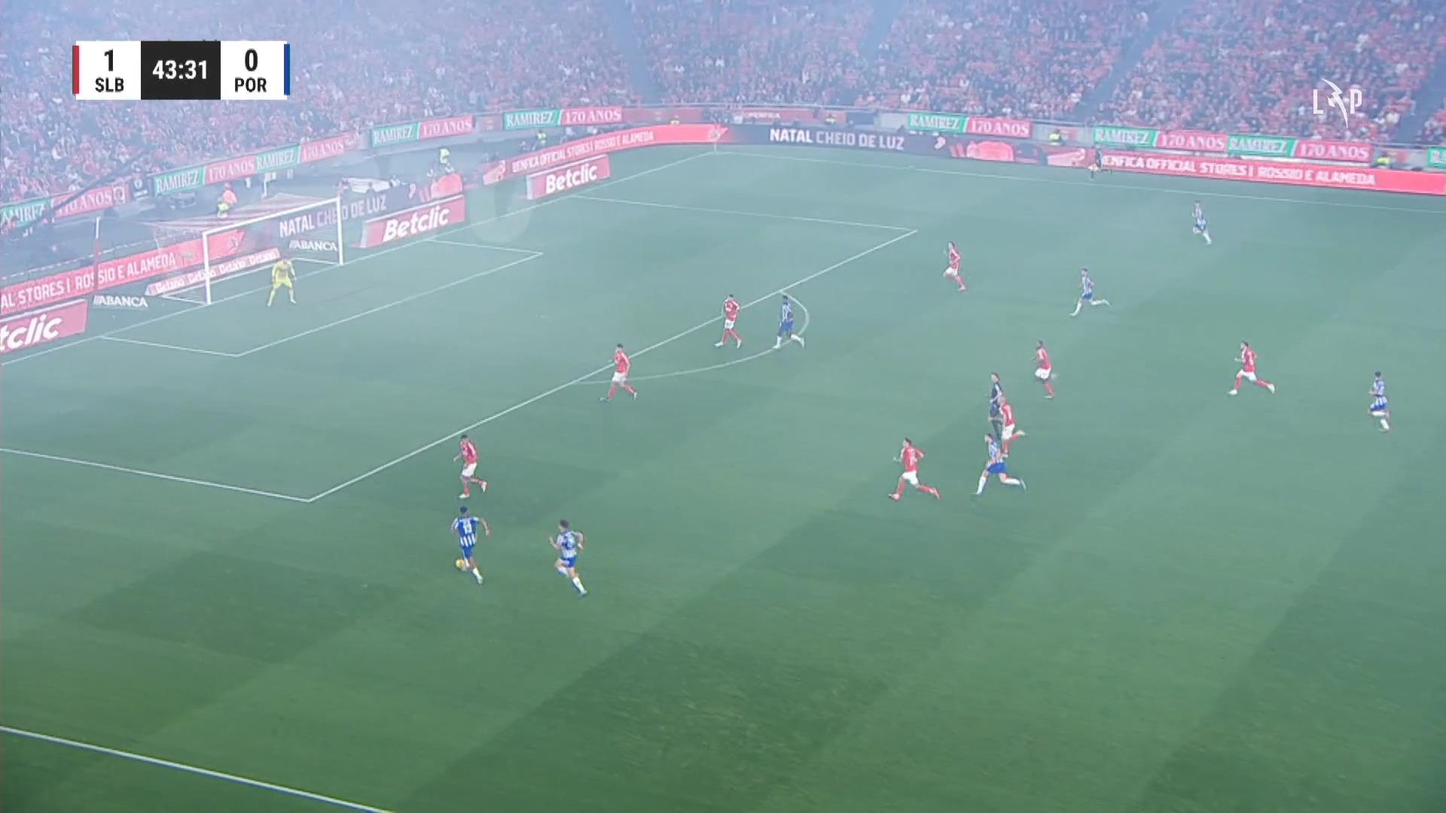ball: (454, 558, 467, 571)
goalkeeper: (266, 257, 297, 306)
player: (888, 436, 941, 501), (972, 432, 1026, 495), (450, 504, 490, 585), (548, 518, 587, 596), (1226, 339, 1275, 396), (598, 342, 638, 403), (452, 433, 487, 498), (1069, 266, 1111, 317), (997, 396, 1028, 456), (772, 293, 805, 349), (713, 293, 743, 349), (1031, 338, 1055, 398), (1367, 370, 1390, 431), (941, 240, 966, 291), (1191, 199, 1212, 245)
referee: (987, 371, 1006, 441), (1087, 144, 1114, 184)
